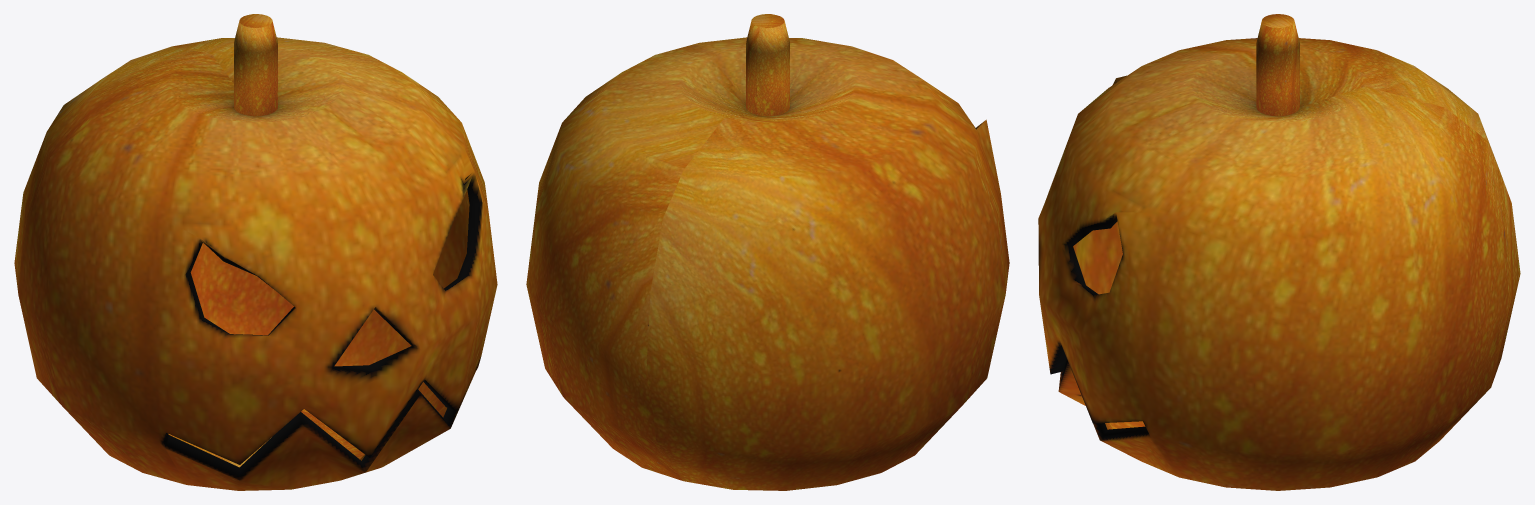
File: Pumpkin.fbx
3 views of the same model, side by side, from view 1: azimuth 30°, elevation 25°; view 2: azimuth 150°, elevation 25°; view 3: azimuth 270°, elevation 25° (orthographic).
Parts seen in each view (by area): view 1: polySurface16; view 2: polySurface16; view 3: polySurface16.
Part boxes in pixels (left/top/right/bottom): polySurface16: left=14, top=14, right=497, bottom=490; polySurface16: left=526, top=14, right=1009, bottom=490; polySurface16: left=1038, top=14, right=1520, bottom=490.
Bounding box in the file's own units: 2.76 × 2.64 × 2.74.
